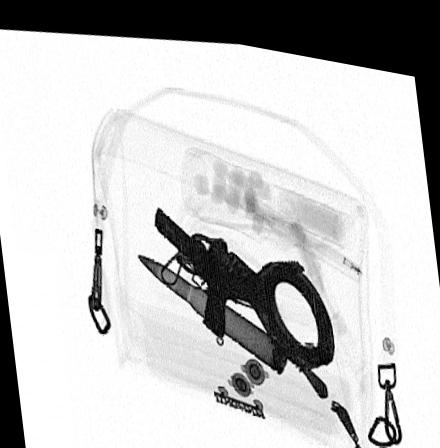Bullet: (136, 251, 286, 363)
Gun: (151, 199, 236, 331)
HandCuffs: (175, 219, 336, 361)
